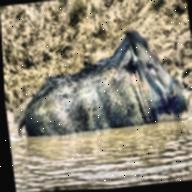boar: (21, 5, 192, 148)
